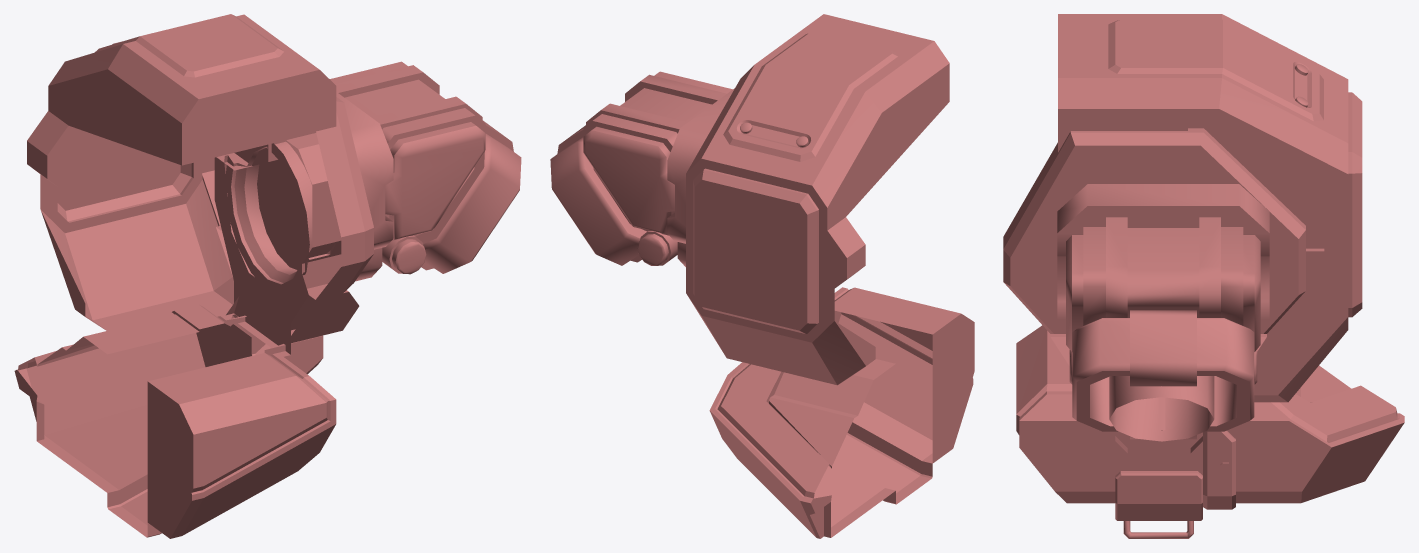
Rendered from hbr_right_torso.dae.
3 views of the same model, side by side, from view 1: azimuth 30°, elevation 25°; view 2: azimuth 150°, elevation 25°; view 3: azimuth 270°, elevation 25° (orthographic). The views are drawn at different scales.
Visible parts, largest first — view 1: hbr_right_torso; view 2: hbr_right_torso; view 3: hbr_right_torso.
Boxes of the visible parts, bbox=[...] form: hbr_right_torso: bbox=[14, 14, 521, 538]; hbr_right_torso: bbox=[550, 14, 974, 538]; hbr_right_torso: bbox=[1003, 14, 1404, 538].
Bounding box in the file's own units: 4.24 × 3.51 × 4.77.
